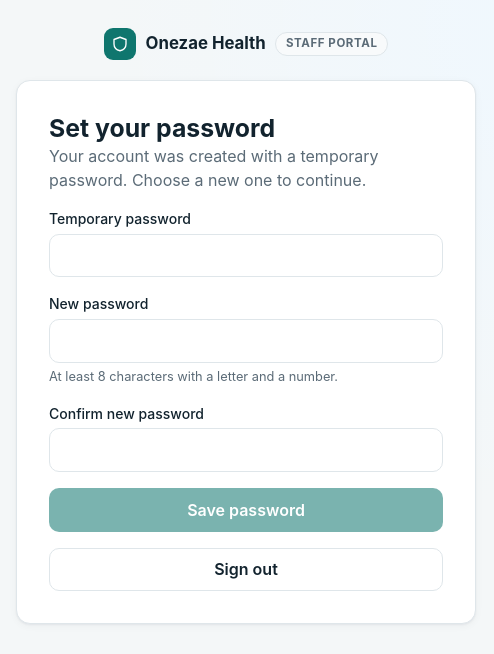
ChangePasswordPage › validates password match and strength
Type "CurrentPass1" into the password field labelled "Temporary password".
click(246, 255); type("CurrentPass1")  # box [49,234,443,277]
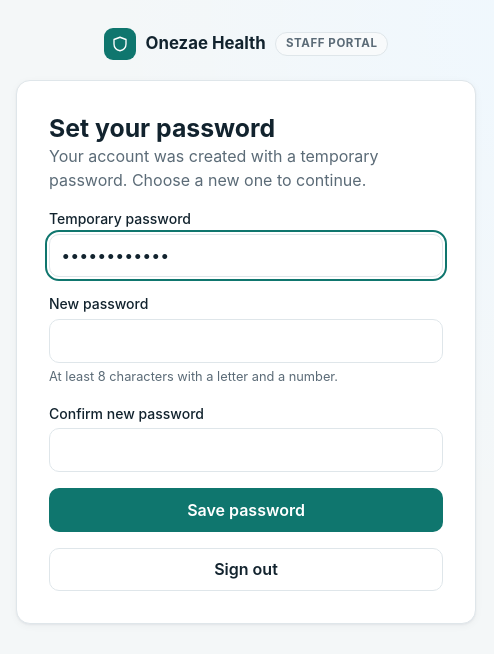
Type "weak" into the password field labelled "New password".
click(246, 341); type("weak")  # box [49,319,443,363]
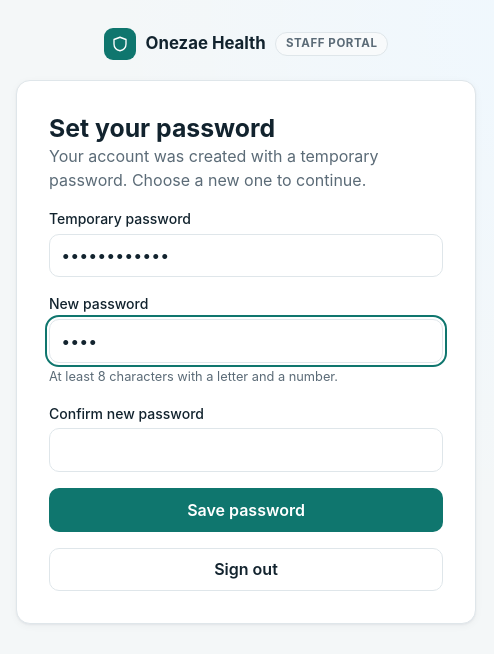
Type "mismatch" into the password field labelled "Confirm new password".
click(246, 450); type("mismatch")  # box [49,428,443,472]
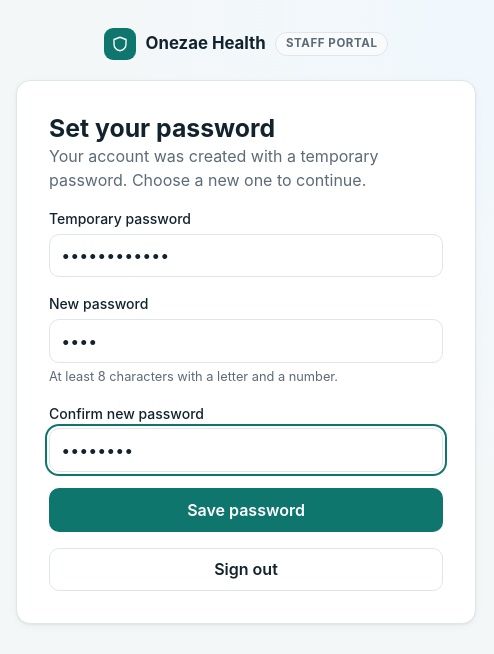
Click the button "Save password".
click(246, 510)  # box [49,488,443,532]
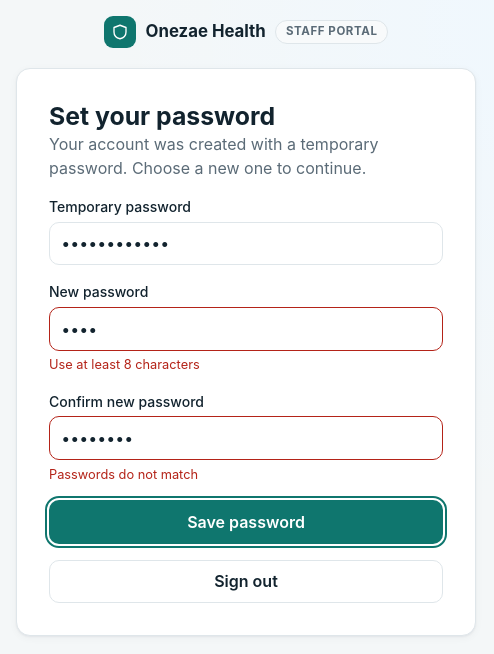
Now the text "Use at least 8 characters" is shown, box [49,357,200,372]
Now the text "Passwords do not match" is shown, box [49,467,198,482]
